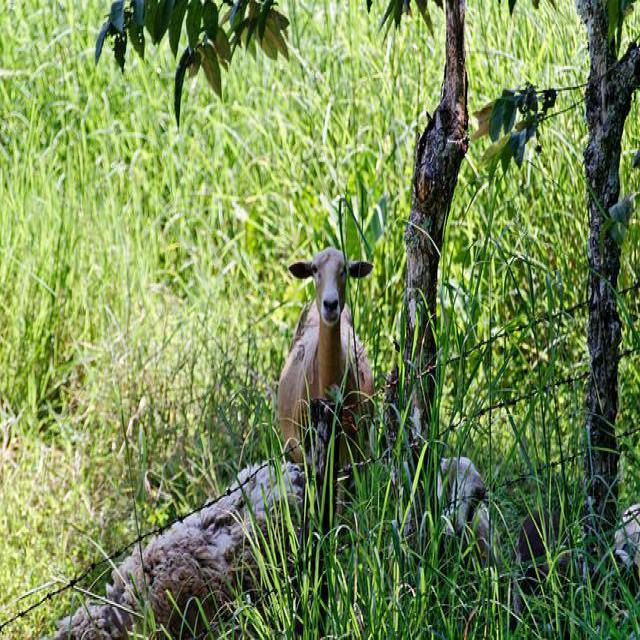Sheep: (276, 245, 376, 470)
